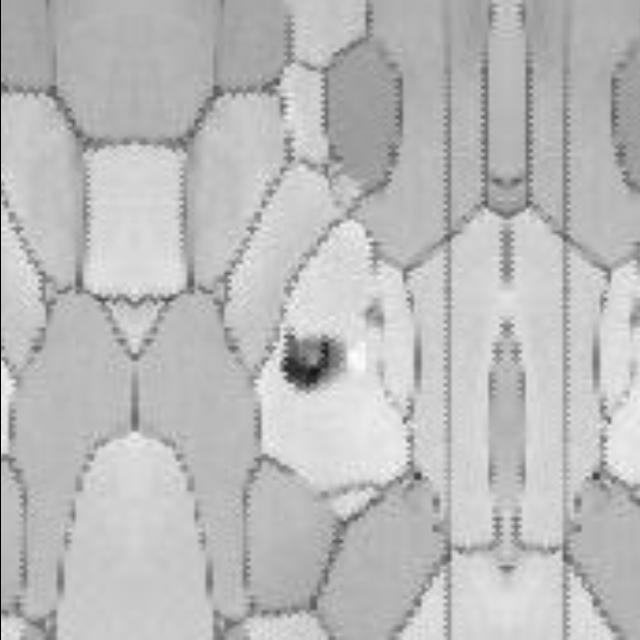good_void: (279, 328, 345, 393)
